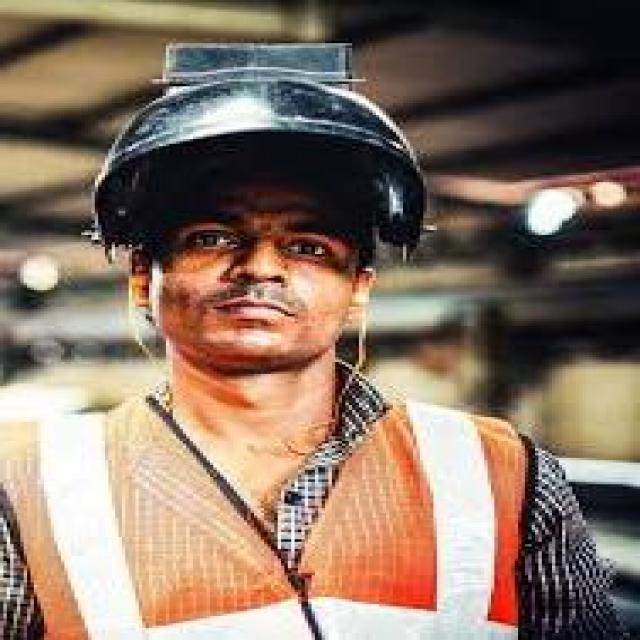reflective_jacket: (0, 383, 545, 637)
safety_helmet: (74, 67, 463, 225)
